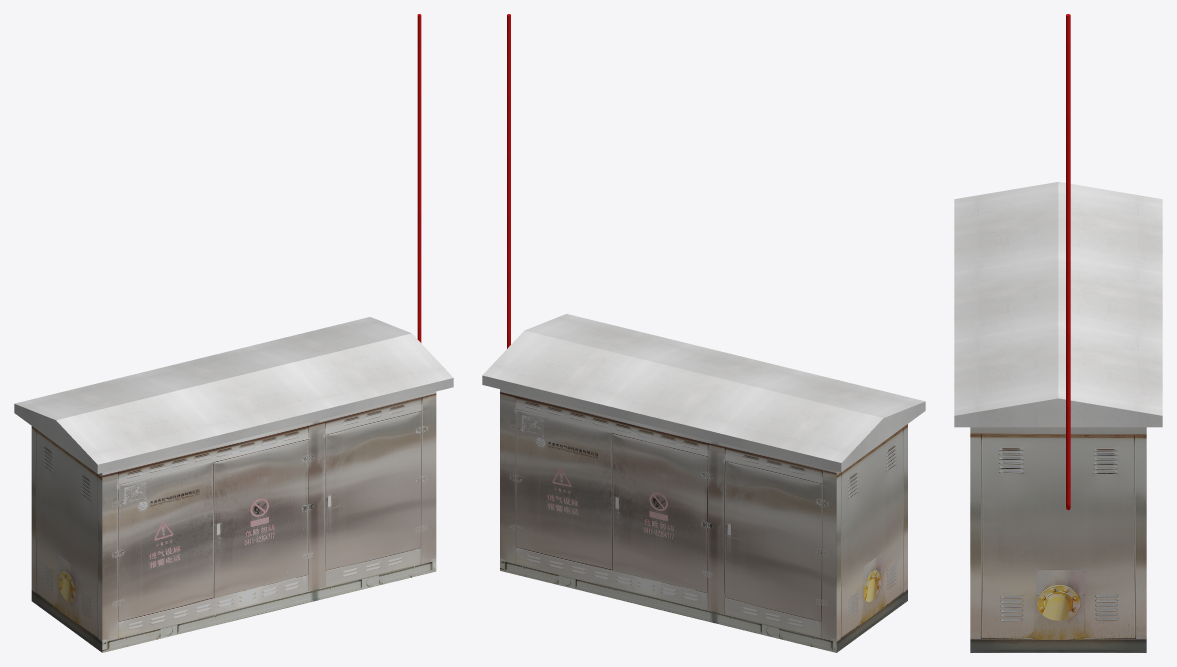
3 renders of one model, left to right at view 1: azimuth 30°, elevation 25°; view 2: azimuth 150°, elevation 25°; view 3: azimuth 270°, elevation 25°, orthographic. The views are drawn at different scales.
Parts seen in each view (by area): view 1: 553040; view 2: 553040; view 3: 553040.
Boxes of the visible parts, x1=… form: 553040: x1=14, y1=14, x2=453, y2=652; 553040: x1=482, y1=14, x2=925, y2=652; 553040: x1=954, y1=14, x2=1162, y2=652.
Bounding box in the file's own units: 3.32 × 4.49 × 1.3.
Materials: 4 (4 with a texture image).
